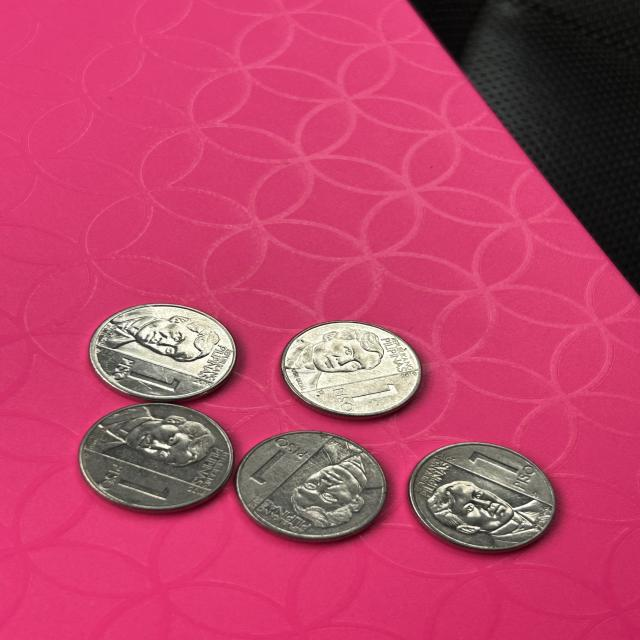1_New_Front: (91, 456, 168, 502), (458, 448, 534, 494), (105, 354, 171, 399), (252, 438, 298, 487), (337, 384, 412, 404)
